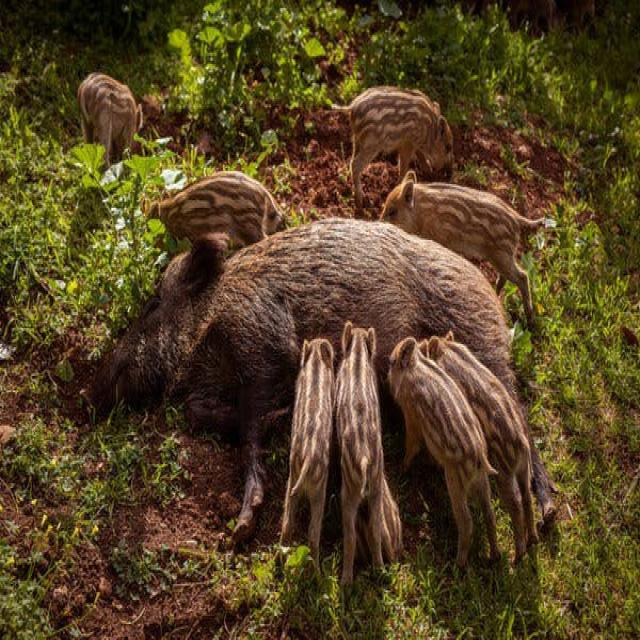Boar: (105, 229, 517, 422), (333, 84, 464, 206), (338, 324, 380, 576), (290, 331, 335, 549), (73, 71, 150, 166)
